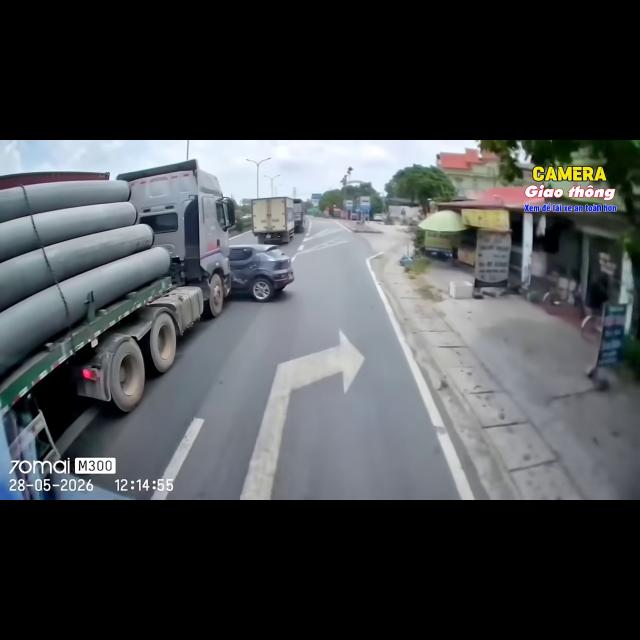bicycle: (581, 314, 603, 341)
car: (229, 244, 294, 301), (373, 214, 382, 221)
truck: (0, 160, 235, 461), (252, 197, 294, 243), (293, 199, 305, 233)
